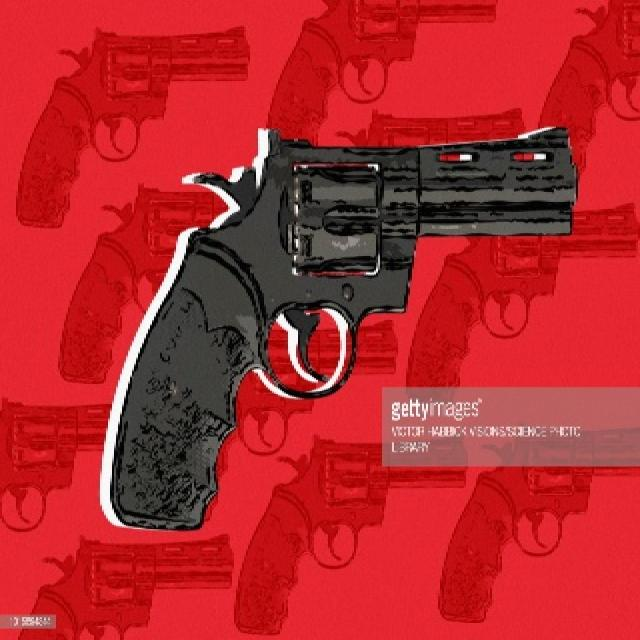handgun: (98, 124, 576, 533)
